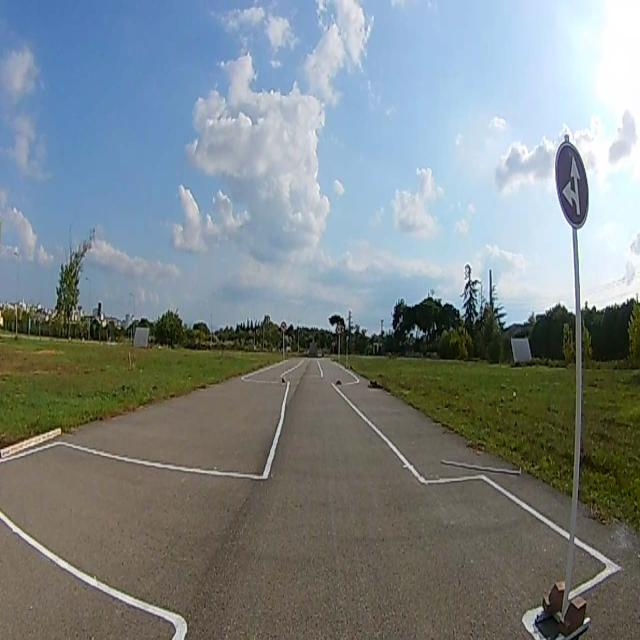ilerisol: (555, 143, 589, 227)
